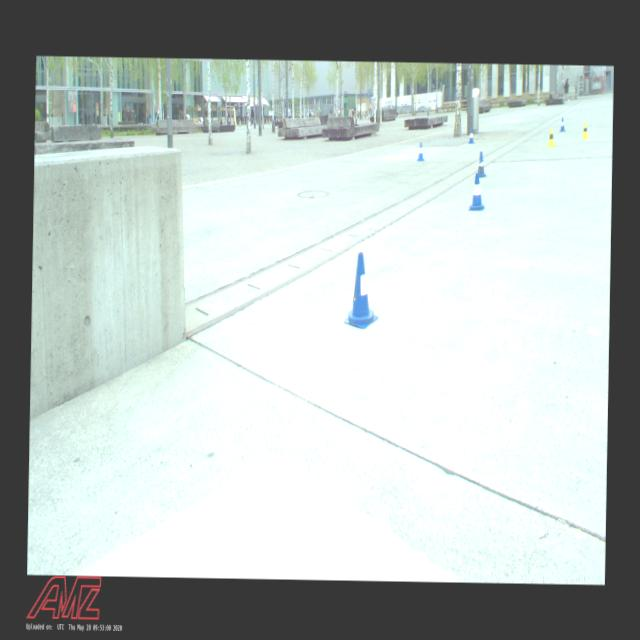blue_cone: (342, 252, 380, 328), (467, 176, 485, 210), (474, 150, 486, 178), (415, 142, 425, 162), (467, 128, 474, 143), (559, 116, 565, 132)
yellow_cone: (580, 120, 590, 138), (546, 128, 556, 146)
